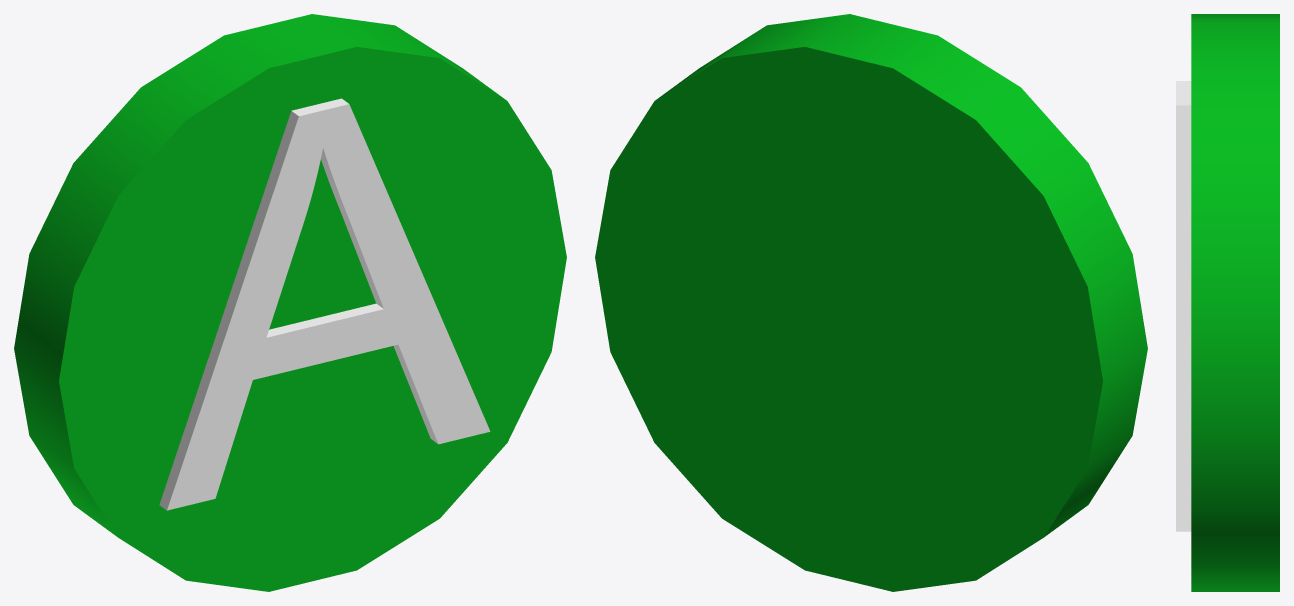
Rendered from button_A.FBX.
3 renders of one model, left to right at view 1: azimuth 30°, elevation 25°; view 2: azimuth 150°, elevation 25°; view 3: azimuth 270°, elevation 25°, orthographic.
Visible parts, largest first — view 1: Cylinder001; view 2: Cylinder001; view 3: Cylinder001.
Part boxes in pixels (bbox=[...]): Cylinder001: bbox=[14, 14, 566, 591]; Cylinder001: bbox=[595, 14, 1147, 591]; Cylinder001: bbox=[1176, 14, 1279, 591].
Bounding box in the file's own units: 18.53 × 18.25 × 3.32.
